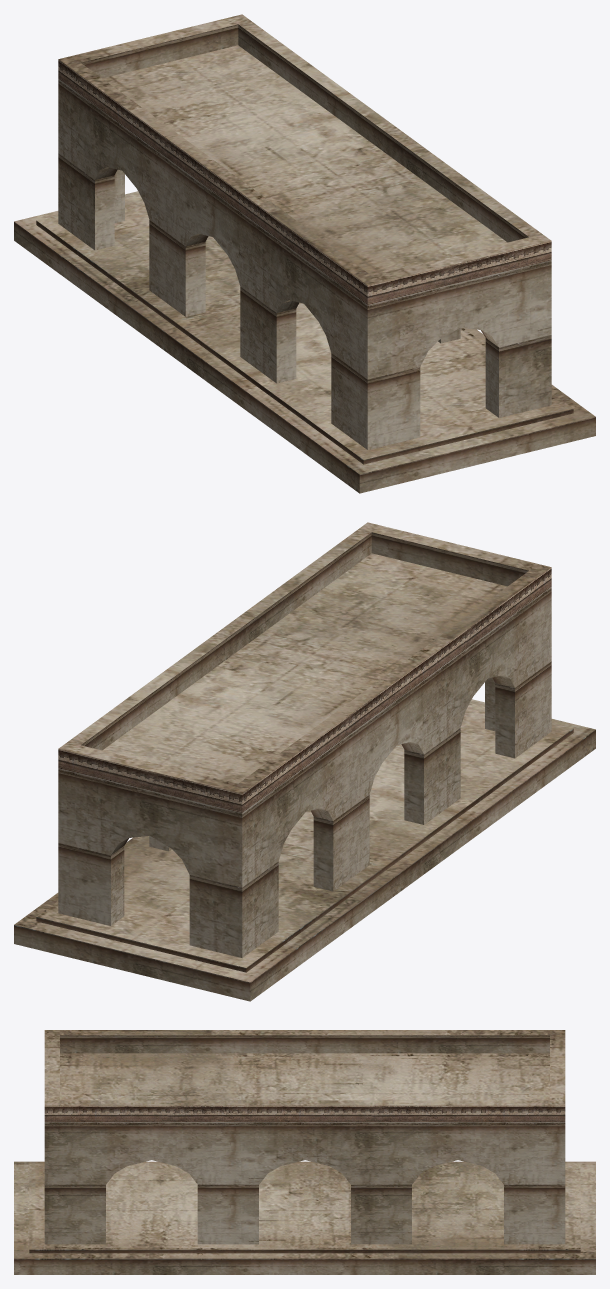
File: RE_Bld2.glb
The picture shows the model from 3 angles, top to bottom: view 1: azimuth 30°, elevation 25°; view 2: azimuth 150°, elevation 25°; view 3: azimuth 270°, elevation 25°; orthographic projection. The views are drawn at different scales.
Visible parts, largest first — view 1: _RE_Bld2; view 2: _RE_Bld2; view 3: _RE_Bld2.
Boxes of the visible parts, x1,y1,x2,y2 form: _RE_Bld2: (14,14,595,493); _RE_Bld2: (14,522,595,1001); _RE_Bld2: (14,1030,595,1274).
Bounding box in the file's own units: 13.5 × 10.28 × 34.2.
Materials: 3 (3 with a texture image).
